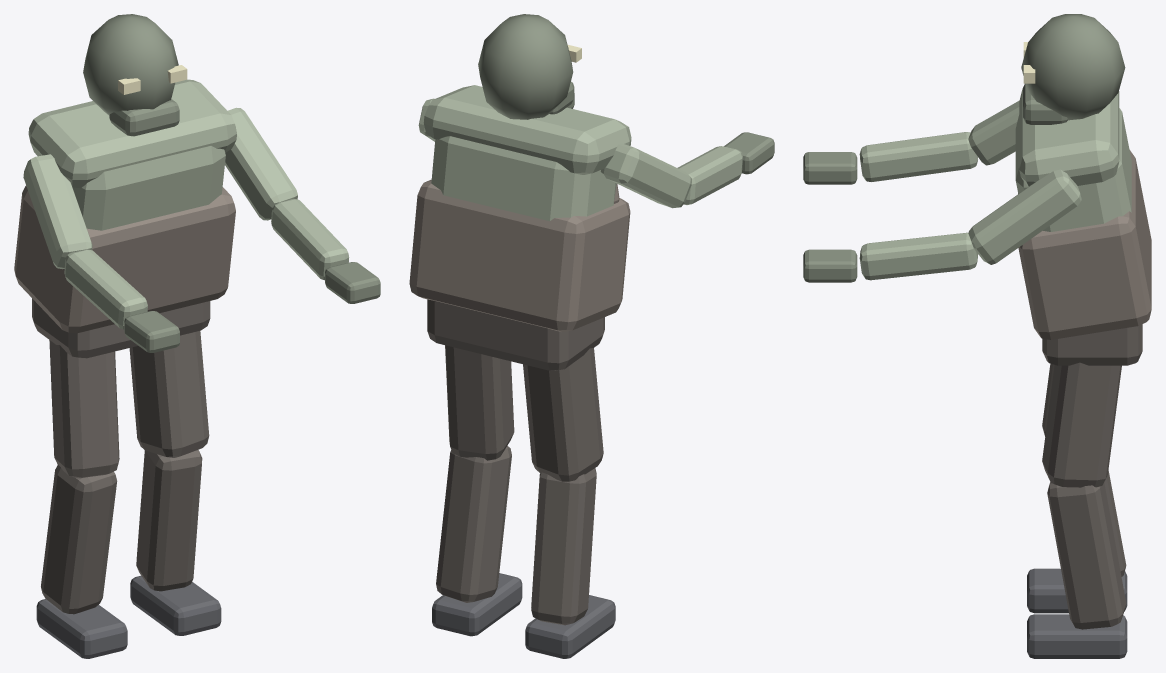
The model's file is enemy_standard.fbx.
The picture shows the model from 3 angles, left to right: view 1: azimuth 30°, elevation 25°; view 2: azimuth 150°, elevation 25°; view 3: azimuth 270°, elevation 25°; orthographic projection.
Visible parts, largest first — view 1: enemy_standard, LegR, LegL, ArmR, Head, ArmL; view 2: enemy_standard, LegR, LegL, Head, ArmR; view 3: enemy_standard, LegL, ArmL, Head, ArmR, LegR.
Boxes of the visible parts, bbox=[...] form: enemy_standard: bbox=[14, 79, 236, 358]; LegR: bbox=[36, 340, 127, 658]; LegL: bbox=[129, 331, 221, 635]; ArmR: bbox=[23, 154, 179, 352]; Head: bbox=[83, 14, 187, 136]; ArmL: bbox=[225, 107, 380, 303]; enemy_standard: bbox=[409, 85, 631, 370]; LegR: bbox=[523, 348, 615, 658]; LegL: bbox=[432, 345, 522, 636]; Head: bbox=[478, 14, 581, 119]; ArmR: bbox=[600, 132, 774, 208]; enemy_standard: bbox=[1015, 88, 1151, 365]; LegL: bbox=[1027, 362, 1127, 658]; ArmL: bbox=[803, 169, 1081, 282]; Head: bbox=[1021, 14, 1125, 124]; ArmR: bbox=[803, 100, 1019, 184]; LegR: bbox=[1027, 363, 1127, 613].
Bounding box in the file's own units: 0.7168 × 1.75 × 0.9035.
